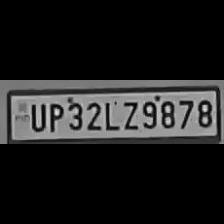2: (84, 99, 102, 131)
3: (65, 99, 83, 131)
7: (176, 97, 194, 129)
8: (194, 96, 214, 128), (158, 97, 176, 128)
9: (138, 98, 158, 130)
L: (103, 99, 119, 131)
P: (46, 101, 64, 133)
U: (27, 100, 46, 132)
Z: (118, 97, 138, 130)
